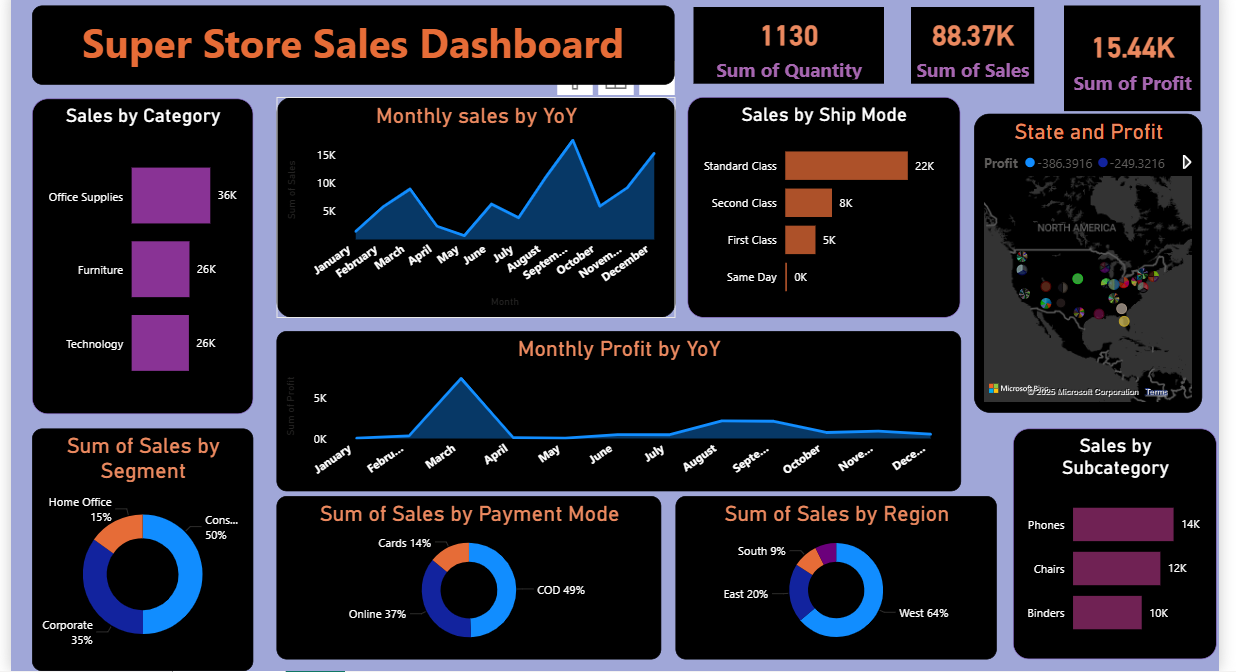

What the dashboard file says about the page in this screenshot:
{"tool":"powerbi","page":{"name":"Page 1","canvas":[1280,720],"ordinal":0},"visuals":[{"type":"clusteredBarChart","title":" Sales by Category","fields":{"Category":["Sheet1.Category"],"Y":["Sum(Sheet1.Sales)"]},"box":[22.4,112.2,234.7,334.7],"z":0},{"type":"clusteredBarChart","title":" Sales by Subcategory","fields":{"Category":["Sheet1.Sub-Category"],"Y":["Sum(Sheet1.Sales)"]},"box":[1063.3,463.3,216.3,244.9],"z":1000},{"type":"clusteredBarChart","title":" Sales by Ship Mode","fields":{"Category":["Sheet1.Ship Mode"],"Y":["Sum(Sheet1.Sales)"]},"box":[718.1,111.5,289.1,234.3],"z":2000},{"type":"stackedAreaChart","title":" Monthly sales by YoY","fields":{"Category":["Sheet1.Order Date.Variation.Date Hierarchy.Month"],"Y":["Sum(Sheet1.Sales)"]},"box":[281.6,111.5,423.3,234.3],"z":3000},{"type":"stackedAreaChart","title":" Monthly Profit by YoY","fields":{"Category":["Sheet1.Order Date.Variation.Date Hierarchy.Month"],"Y":["Sum(Sheet1.Profit)"]},"box":[281.6,359.1,725.7,170.1],"z":4000},{"type":"donutChart","fields":{"Category":["Sheet1.Segment"],"Y":["Sum(Sheet1.Sales)"]},"box":[22.4,463.3,234.7,257.1],"z":5000},{"type":"donutChart","fields":{"Category":["Sheet1.Payment Mode"],"Y":["Sum(Sheet1.Sales)"]},"box":[281.6,534.7,408.2,173.5],"z":6000},{"type":"donutChart","fields":{"Category":["Sheet1.Region"],"Y":["Sum(Sheet1.Sales)"]},"box":[704.1,534.7,340.8,173.5],"z":7000},{"type":"textbox","box":[22.4,14.3,681.6,83.7],"z":8000},{"type":"card","fields":{"Values":["Sum(Sheet1.Sales)"]},"box":[955.1,16.3,130.6,81.6],"z":9000},{"type":"card","fields":{"Values":["Sum(Sheet1.Profit)"]},"box":[1116.3,14.3,144.9,112.2],"z":10000},{"type":"card","fields":{"Values":["Sum(Sheet1.Quantity)"]},"box":[724.5,16.3,202,81.6],"z":11000},{"type":"map","fields":{"Category":["Sheet1.State"],"Series":["Sheet1.Profit"]},"box":[1020.5,128.5,241.9,317.5],"z":12000}]}

Visuals, with their boxes in screenshot pixels (x1, y1, x2, y2):
" Sales by Category" clusteredBarChart: <box>28,91,252,411</box>
" Sales by Subcategory" clusteredBarChart: <box>1022,426,1229,660</box>
" Sales by Ship Mode" clusteredBarChart: <box>692,90,969,314</box>
" Monthly sales by YoY" stackedAreaChart: <box>275,90,680,314</box>
" Monthly Profit by YoY" stackedAreaChart: <box>275,327,969,489</box>
donutChart - Sheet1.Segment x Sum(Sheet1.Sales): <box>28,426,252,671</box>
donutChart - Sheet1.Payment Mode x Sum(Sheet1.Sales): <box>275,495,665,660</box>
donutChart - Sheet1.Region x Sum(Sheet1.Sales): <box>679,495,1005,660</box>
textbox: <box>28,0,679,78</box>
card - Sum(Sheet1.Sales): <box>919,0,1044,77</box>
card - Sum(Sheet1.Profit): <box>1073,0,1211,105</box>
card - Sum(Sheet1.Quantity): <box>699,0,892,77</box>
map - Sheet1.State x Sheet1.Profit: <box>981,107,1212,410</box>
